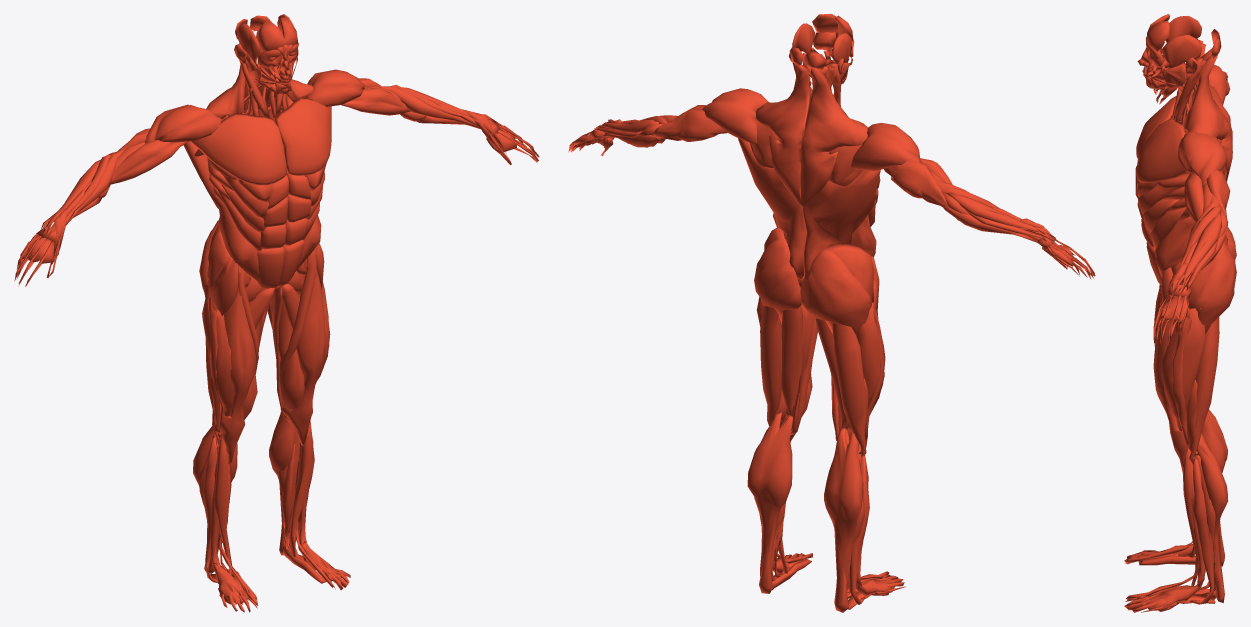
File: muscle.glb
3 renders of one model, left to right at view 1: azimuth 30°, elevation 25°; view 2: azimuth 150°, elevation 25°; view 3: azimuth 270°, elevation 25°, orthographic.
Parts seen in each view (by area): view 1: Muscles; view 2: Muscles; view 3: Muscles.
Boxes of the visible parts, x1,y1,x2,y2 form: Muscles: (14, 14, 539, 612); Muscles: (568, 14, 1095, 612); Muscles: (1124, 14, 1236, 612).
Bounding box in the file's own units: 8.41 × 8.76 × 1.57.
